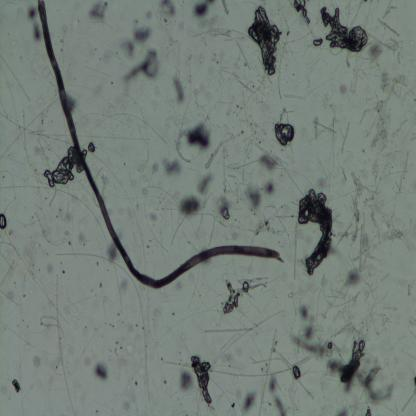Air bubble: (314, 6, 367, 52), (0, 51, 33, 101), (44, 146, 78, 187), (274, 121, 296, 146), (296, 1, 312, 25), (86, 141, 97, 155), (0, 213, 8, 231)
Background material: (348, 56, 416, 156), (300, 188, 334, 274), (236, 76, 268, 143), (250, 5, 280, 76), (222, 275, 268, 318), (339, 338, 366, 388), (362, 366, 396, 402), (190, 352, 214, 403), (289, 336, 330, 360), (268, 372, 288, 416), (186, 122, 211, 149), (300, 304, 317, 340), (178, 193, 202, 216), (27, 6, 41, 43), (124, 62, 148, 82), (192, 1, 218, 19), (144, 48, 160, 76), (172, 73, 185, 107), (133, 27, 155, 46), (245, 186, 263, 209), (219, 193, 233, 222), (260, 150, 278, 172), (176, 370, 193, 392), (121, 37, 136, 61), (326, 354, 344, 374), (92, 1, 109, 22), (92, 358, 109, 378), (198, 173, 214, 193), (242, 390, 258, 410), (158, 0, 176, 16), (162, 160, 182, 174), (290, 363, 302, 381), (346, 269, 360, 284), (11, 377, 22, 393), (264, 180, 276, 194), (338, 82, 350, 94)
Cellulose filter fibre: (82, 63, 114, 78)
Cotton: (36, 0, 282, 289)
Glass filter fibre: (330, 162, 398, 258), (122, 271, 154, 405), (92, 100, 170, 145), (56, 275, 76, 414), (135, 177, 170, 256), (193, 26, 251, 72), (52, 250, 127, 284), (258, 327, 280, 414), (320, 274, 363, 306), (368, 16, 400, 53), (20, 107, 36, 170), (171, 128, 192, 166), (40, 313, 67, 338), (360, 212, 371, 273), (33, 212, 52, 245), (240, 137, 253, 185), (170, 215, 188, 249), (204, 140, 223, 171), (292, 222, 300, 282), (202, 326, 256, 334), (340, 119, 350, 157), (278, 41, 284, 100), (318, 121, 338, 136), (283, 92, 308, 100), (287, 290, 302, 300), (222, 0, 232, 15), (296, 327, 301, 355), (312, 115, 318, 138), (100, 174, 106, 196)
